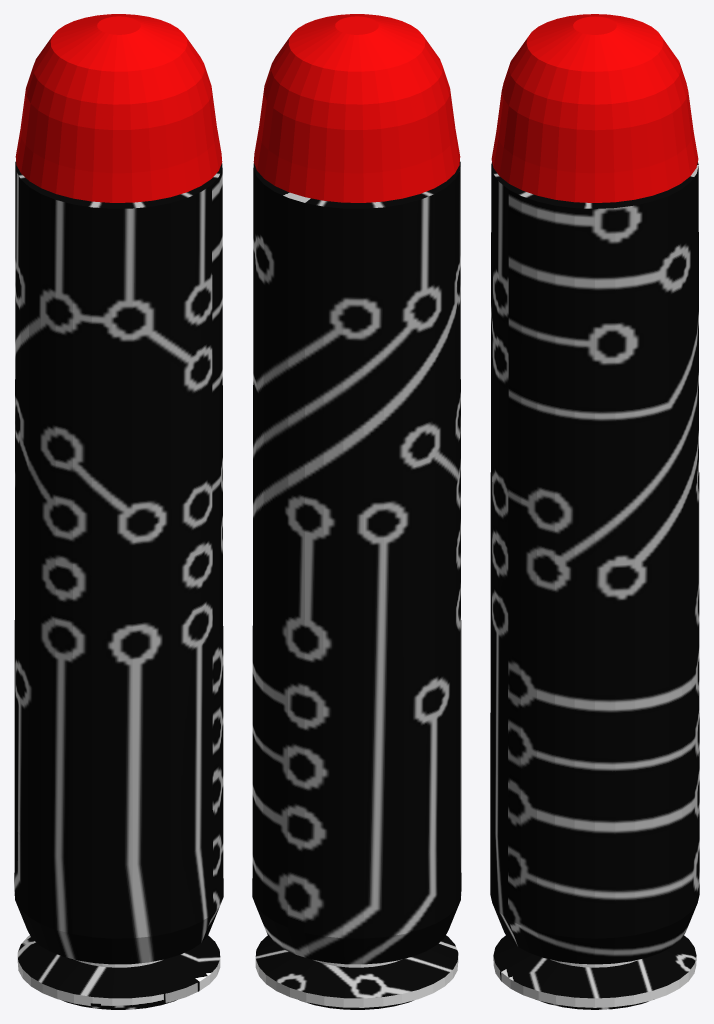
The model's file is Game_Jam_Rocket.fbx.
The picture shows the model from 3 angles, left to right: view 1: azimuth 30°, elevation 25°; view 2: azimuth 150°, elevation 25°; view 3: azimuth 270°, elevation 25°; orthographic projection.
Visible parts, largest first — view 1: Cylinder; view 2: Cylinder; view 3: Cylinder.
Part boxes in pixels (x1,y1,x2,y2): Cylinder: (14,14,223,1009); Cylinder: (252,14,461,1009); Cylinder: (490,14,699,1009).
Size of the model in its own units: 200 by 1000 by 200.
